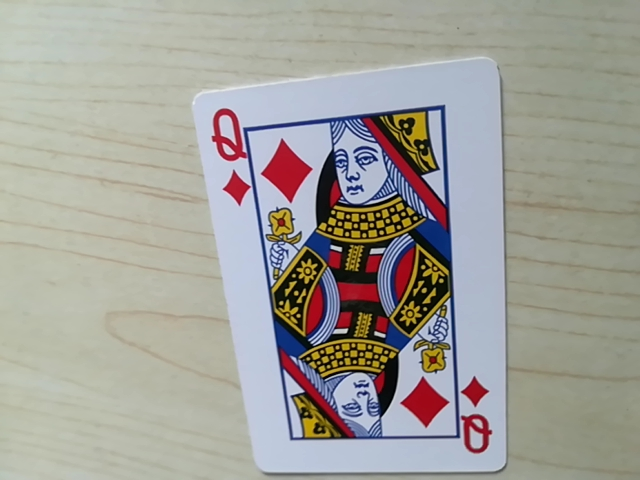fk q: (206, 95, 272, 216), (457, 403, 498, 460)
